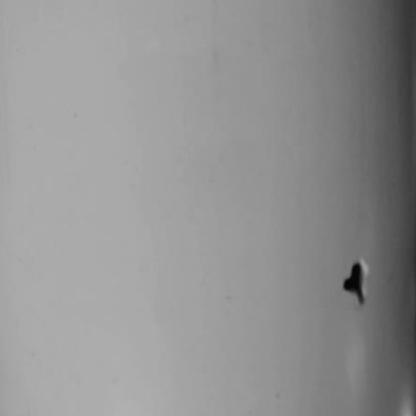kongdong: (338, 251, 371, 308)
